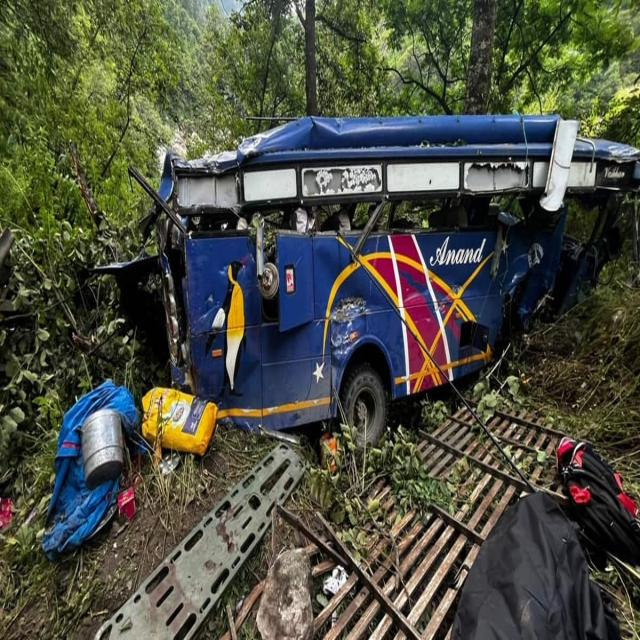accident: (98, 117, 640, 444)
